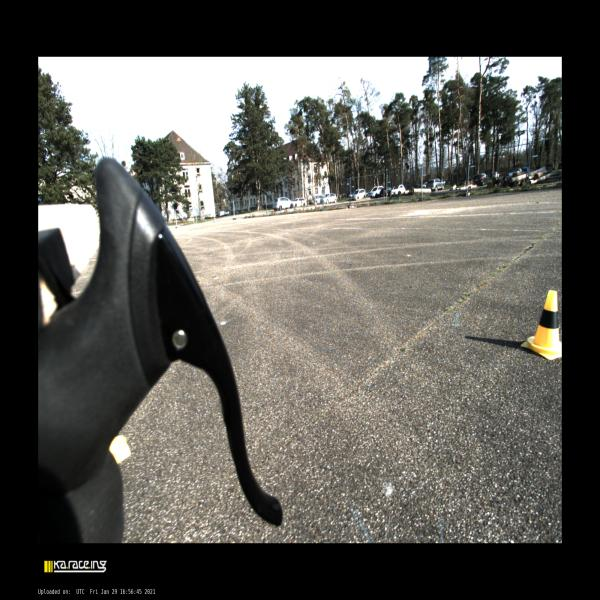yellow_cone: (520, 290, 562, 360)
